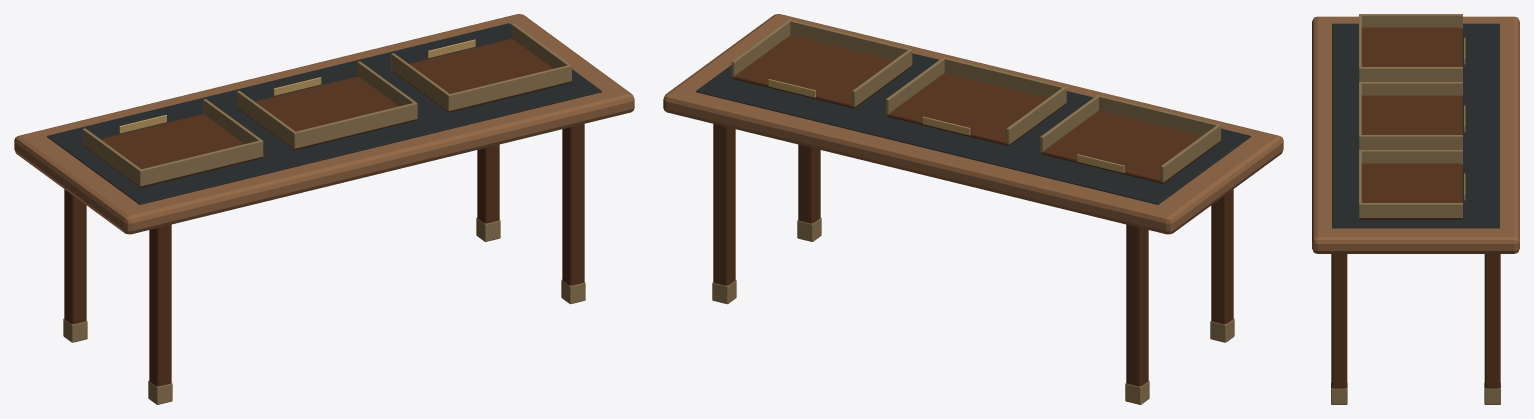
The model's file is shared-work-island.glb.
The picture shows the model from 3 angles, left to right: view 1: azimuth 30°, elevation 25°; view 2: azimuth 150°, elevation 25°; view 3: azimuth 270°, elevation 25°; orthographic projection. The views are drawn at different scales.
Parts seen in each view (by area): view 1: part::shared-work-island/shared-walnut-desktop-001, part::shared-work-island/inlaid-graphite-work-mat-001, part::handoff-tray-2/document-tray-base-001, part::handoff-tray-0/document-tray-base-001, part::handoff-tray-1/document-tray-base-001, part::shared-work-island/tapered-desk-leg-002, part::shared-work-island/tapered-desk-leg-004, part::shared-work-island/tapered-desk-leg-001, part::handoff-tray-1/tray-rear-001, part::handoff-tray-2/tray-rear-001, part::handoff-tray-0/tray-rear-001, part::shared-work-island/tapered-desk-leg-003 (+6 smaller); view 2: part::shared-work-island/shared-walnut-desktop-001, part::shared-work-island/inlaid-graphite-work-mat-001, part::handoff-tray-1/document-tray-base-001, part::handoff-tray-0/document-tray-base-001, part::handoff-tray-2/document-tray-base-001, part::shared-work-island/tapered-desk-leg-001, part::shared-work-island/tapered-desk-leg-003, part::shared-work-island/tapered-desk-leg-002, part::handoff-tray-1/tray-rear-001, part::handoff-tray-2/tray-rear-001, part::handoff-tray-0/tray-rear-001, part::shared-work-island/tapered-desk-leg-004 (+6 smaller); view 3: part::shared-work-island/shared-walnut-desktop-001, part::shared-work-island/inlaid-graphite-work-mat-001, part::handoff-tray-2/document-tray-base-001, part::handoff-tray-0/document-tray-base-001, part::handoff-tray-1/document-tray-base-001, part::shared-work-island/tapered-desk-leg-003, part::shared-work-island/tapered-desk-leg-004, part::handoff-tray-2/tray-side-002, part::handoff-tray-0/tray-side-002, part::handoff-tray-1/tray-side-002, part::handoff-tray-2/tray-side-001, part::handoff-tray-0/tray-side-001 (+3 smaller).
Part boxes in pixels (x1,y1,x2,y2): part::shared-work-island/shared-walnut-desktop-001: (14,14,634,234); part::shared-work-island/inlaid-graphite-work-mat-001: (47,23,601,204); part::handoff-tray-2/document-tray-base-001: (392,38,570,112); part::handoff-tray-0/document-tray-base-001: (83,114,262,187); part::handoff-tray-1/document-tray-base-001: (238,76,416,149); part::shared-work-island/tapered-desk-leg-002: (149,224,171,386); part::shared-work-island/tapered-desk-leg-004: (562,124,584,285); part::shared-work-island/tapered-desk-leg-001: (64,189,86,324); part::handoff-tray-1/tray-rear-001: (294,102,417,148); part::handoff-tray-2/tray-rear-001: (448,65,571,111); part::handoff-tray-0/tray-rear-001: (140,140,263,186); part::shared-work-island/tapered-desk-leg-003: (477,144,499,223); part::shared-work-island/shared-walnut-desktop-001: (663,14,1283,234); part::shared-work-island/inlaid-graphite-work-mat-001: (696,53,1250,204); part::handoff-tray-1/document-tray-base-001: (886,73,1065,145); part::handoff-tray-0/document-tray-base-001: (1041,110,1219,183); part::handoff-tray-2/document-tray-base-001: (732,35,911,108); part::shared-work-island/tapered-desk-leg-001: (1126,224,1148,386); part::shared-work-island/tapered-desk-leg-003: (713,124,735,285); part::shared-work-island/tapered-desk-leg-002: (1211,189,1233,324); part::handoff-tray-1/tray-rear-001: (943,57,1065,97); part::handoff-tray-2/tray-rear-001: (789,20,911,60); part::handoff-tray-0/tray-rear-001: (1097,95,1220,135); part::shared-work-island/tapered-desk-leg-004: (798,144,820,223); part::shared-work-island/shared-walnut-desktop-001: (1312,16,1519,253); part::shared-work-island/inlaid-graphite-work-mat-001: (1332,23,1499,228); part::handoff-tray-2/document-tray-base-001: (1359,163,1462,219); part::handoff-tray-0/document-tray-base-001: (1361,27,1462,66); part::handoff-tray-1/document-tray-base-001: (1361,95,1462,134); part::shared-work-island/tapered-desk-leg-003: (1484,254,1500,388); part::shared-work-island/tapered-desk-leg-004: (1331,254,1347,388); part::handoff-tray-2/tray-side-002: (1359,203,1462,218); part::handoff-tray-0/tray-side-002: (1359,67,1462,81); part::handoff-tray-1/tray-side-002: (1359,135,1462,149); part::handoff-tray-2/tray-side-001: (1359,150,1462,164); part::handoff-tray-0/tray-side-001: (1361,14,1462,28).
Bounding box in the file's own units: 2.15 × 0.9005 × 0.84.
